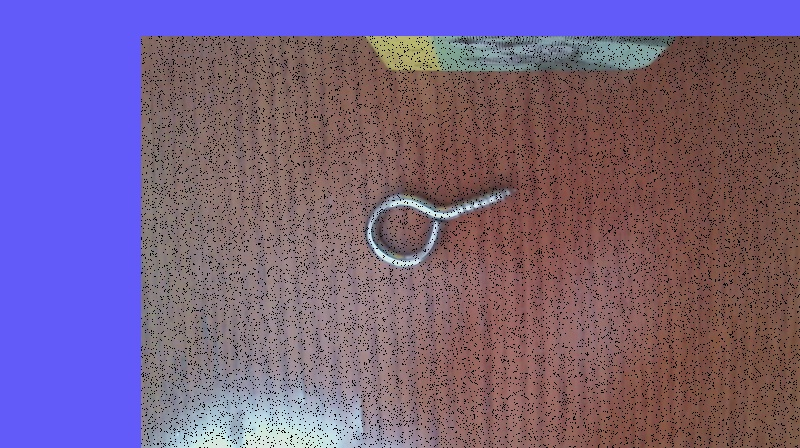O001: (355, 170, 521, 270)
